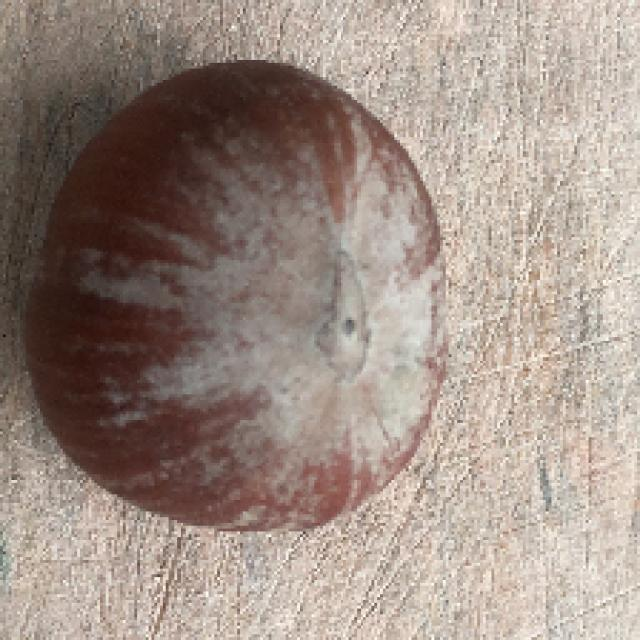qualityHazelnut: (13, 50, 460, 544)
